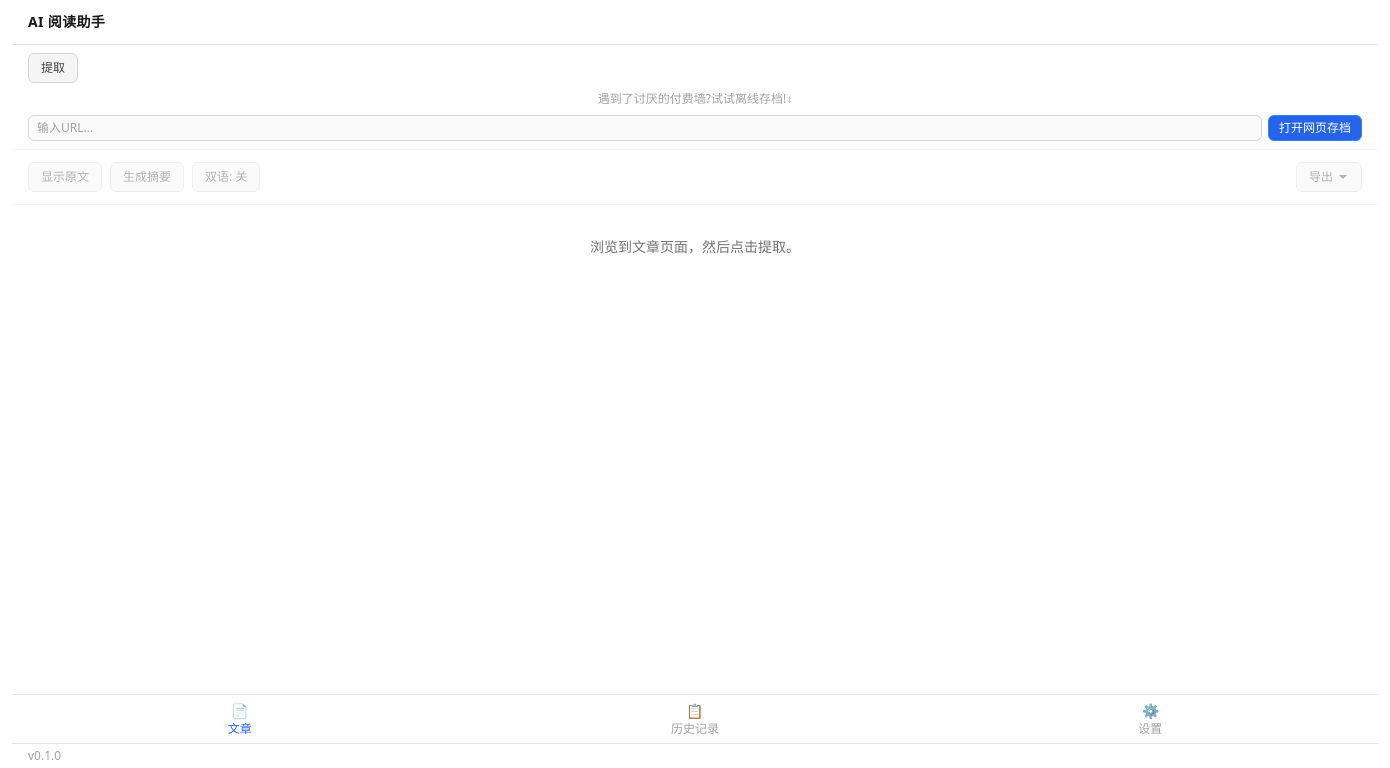
App – history tab › shows empty state when no history
Expected: the heading "AI 阅读助手" is shown, 28,12 -> 105,31
Click the text "📋".
click(695, 711)  # box 686,701 -> 704,721
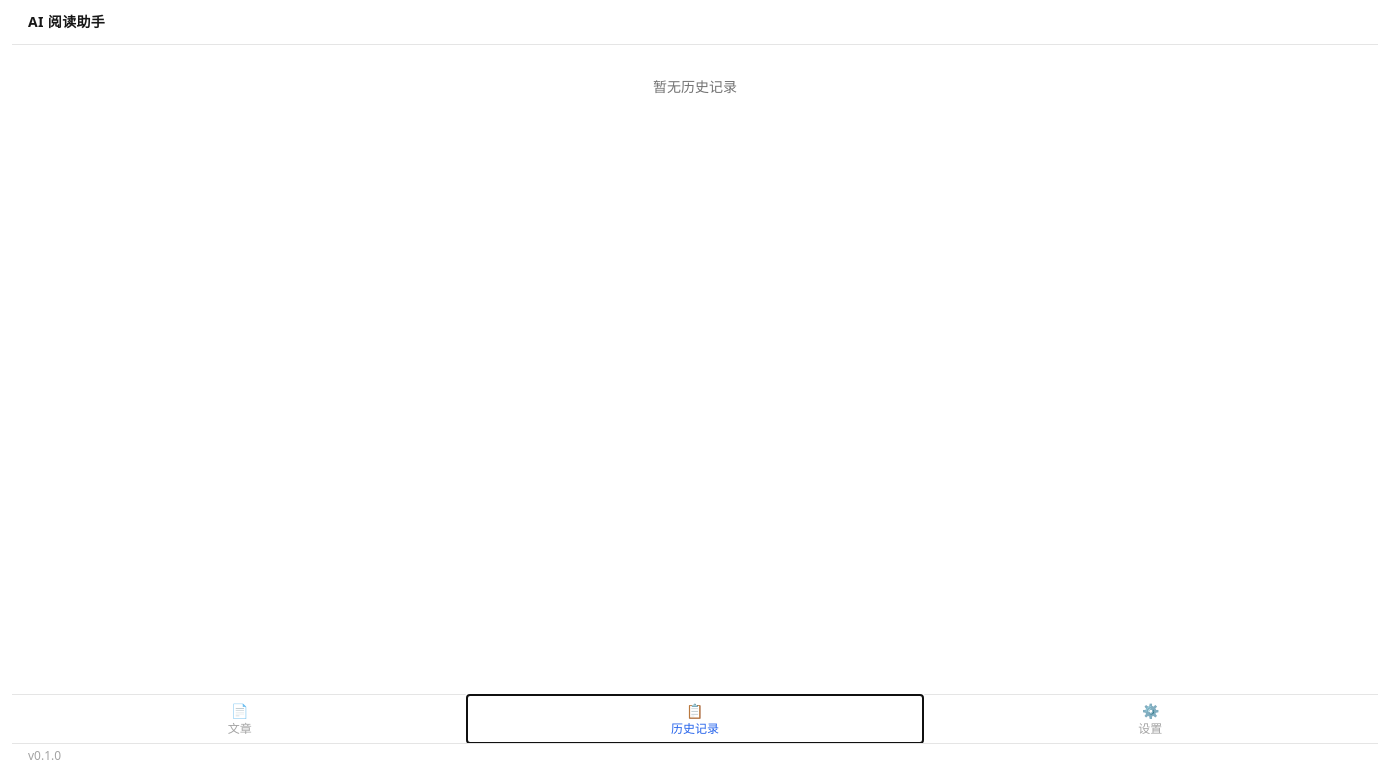
Now the text "暂无历史记录" is shown, box 653,77 -> 737,96
